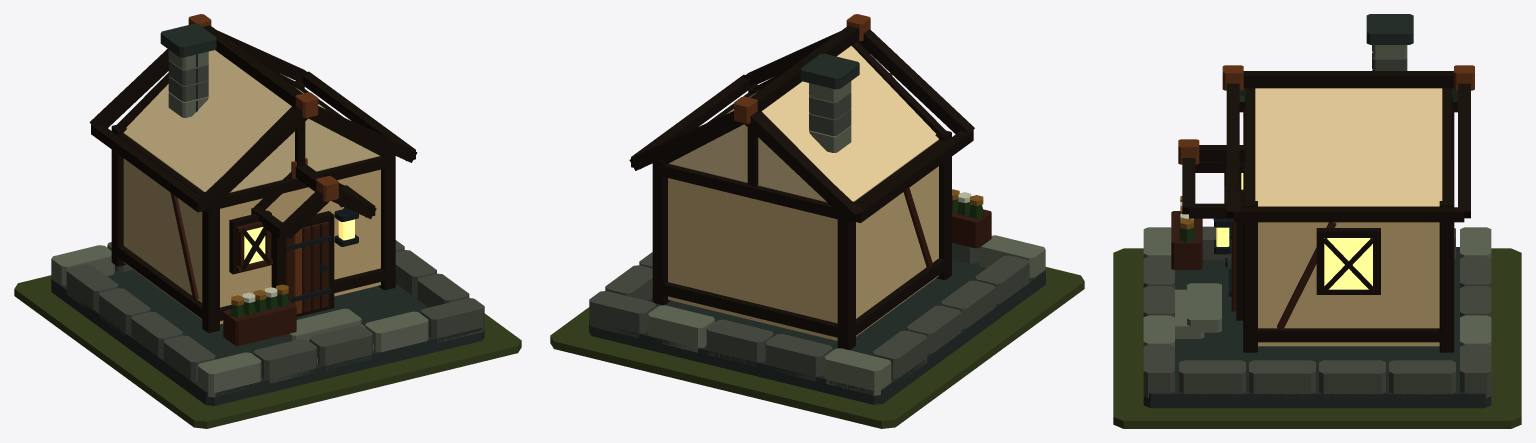
The model's file is cottage_t2.glb.
3 renders of one model, left to right at view 1: azimuth 30°, elevation 25°; view 2: azimuth 150°, elevation 25°; view 3: azimuth 270°, elevation 25°, orthographic. The views are drawn at different scales.
Visible parts, largest first — view 1: MMR | cottage | T02 Architecture.001, MMR | cottage | Tier 02 Ground.001; view 2: MMR | cottage | T02 Architecture.001, MMR | cottage | Tier 02 Ground.001; view 3: MMR | cottage | T02 Architecture.001, MMR | cottage | Tier 02 Ground.001.
Boxes of the visible parts, <box> form: MMR | cottage | T02 Architecture.001: <box>51,14,484,405</box>; MMR | cottage | Tier 02 Ground.001: <box>14,275,521,428</box>; MMR | cottage | T02 Architecture.001: <box>589,14,1045,404</box>; MMR | cottage | Tier 02 Ground.001: <box>550,267,1084,428</box>; MMR | cottage | T02 Architecture.001: <box>1143,14,1491,408</box>; MMR | cottage | Tier 02 Ground.001: <box>1113,248,1521,428</box>.
Bounding box in the file's own units: 2.35 × 1.87 × 2.35.
Materials: 2 (1 with a texture image).
